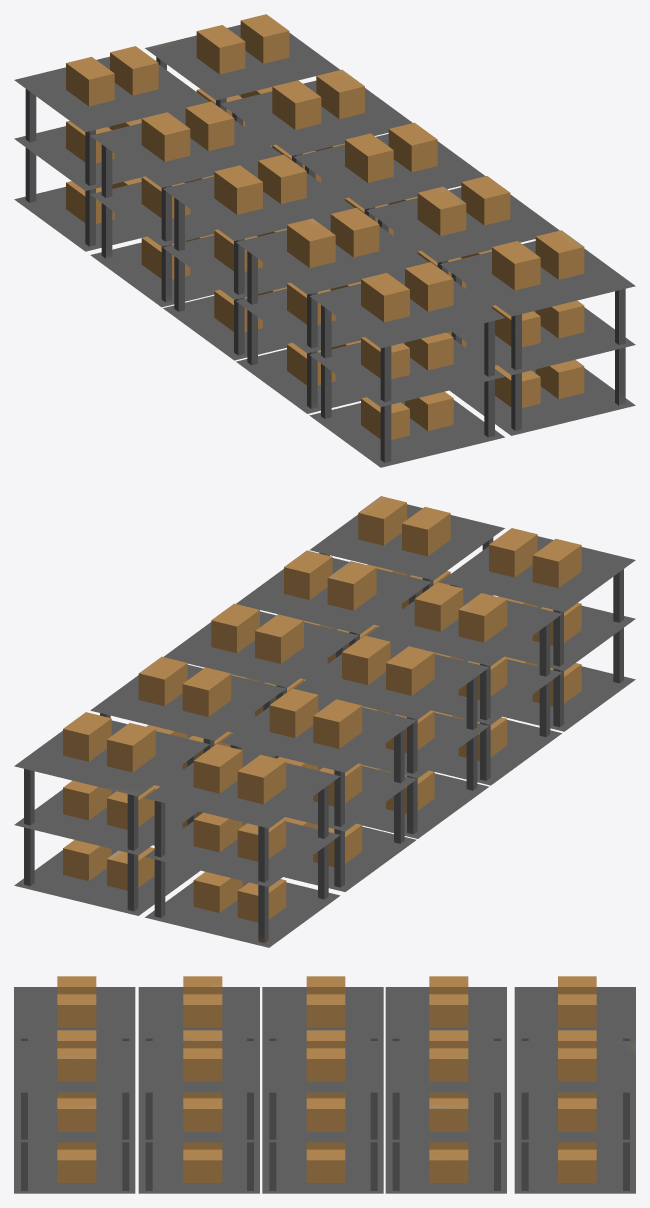
Rendered from EstanteriaCaja5x2.obj.
3 renders of one model, top to bottom at view 1: azimuth 30°, elevation 25°; view 2: azimuth 150°, elevation 25°; view 3: azimuth 270°, elevation 25°, orthographic. The views are drawn at different scales.
Parts seen in each view (by area): view 1: EstanteriaCajas5X2; view 2: EstanteriaCajas5X2; view 3: EstanteriaCajas5X2.
Part boxes in pixels (<box>): EstanteriaCajas5X2: <box>14,14,635,467</box>; EstanteriaCajas5X2: <box>14,496,635,947</box>; EstanteriaCajas5X2: <box>14,976,635,1193</box>.
Bounding box in the file's own units: 4.1 × 2.24 × 10.2.
Materials: 1 (1 with a texture image).
